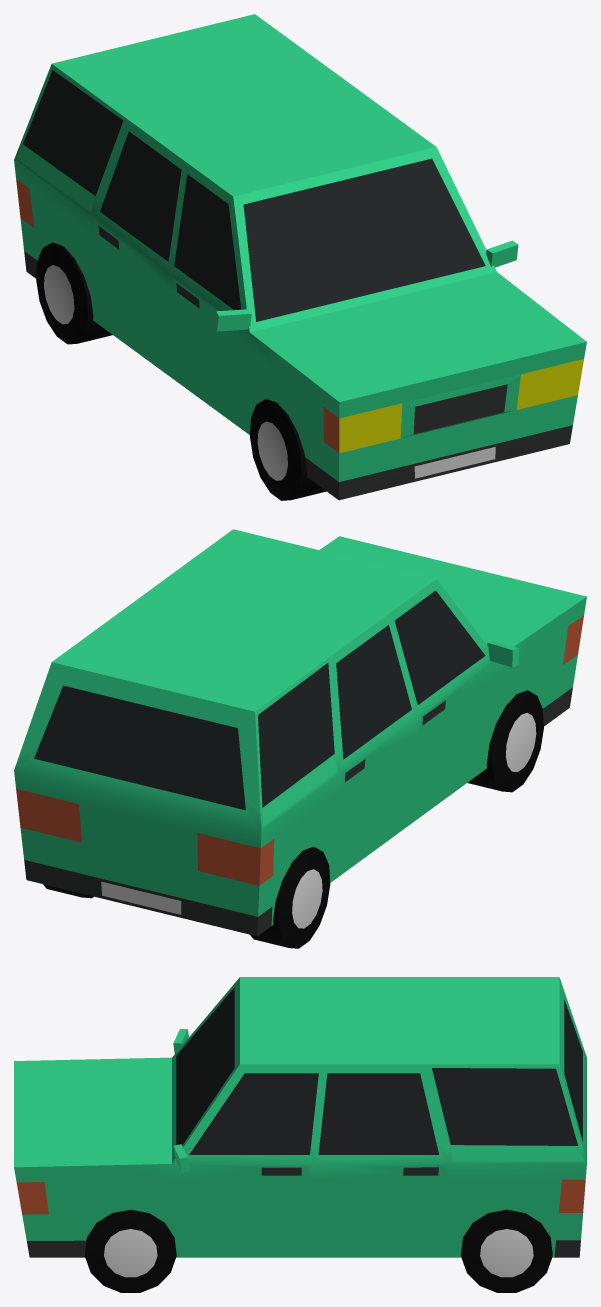
File: SUV1.fbx
3 views of the same model, one above another, from view 1: azimuth 30°, elevation 25°; view 2: azimuth 150°, elevation 25°; view 3: azimuth 270°, elevation 25° (orthographic). The views are drawn at different scales.
Visible parts, largest first — view 1: Body4, WheelRL2, WheelRL4, pCube3, pCube2; view 2: Body4, WheelRL2, WheelRL4, pCube3; view 3: Body4, WheelRL1, WheelRL3.
Part boxes in pixels (x1,y1,x2,y2): Body4: (14,14,586,500); WheelRL2: (36,242,112,344); WheelRL4: (250,399,326,500); pCube3: (214,309,251,331); pCube2: (486,240,518,267); Body4: (14,529,586,936); WheelRL2: (250,846,330,948); WheelRL4: (467,690,543,792); pCube3: (487,640,518,667); Body4: (14,977,586,1257); WheelRL1: (461,1209,552,1292); WheelRL3: (85,1209,176,1292).
Size of the model in its own units: 3.38 by 2.69 by 6.35.
